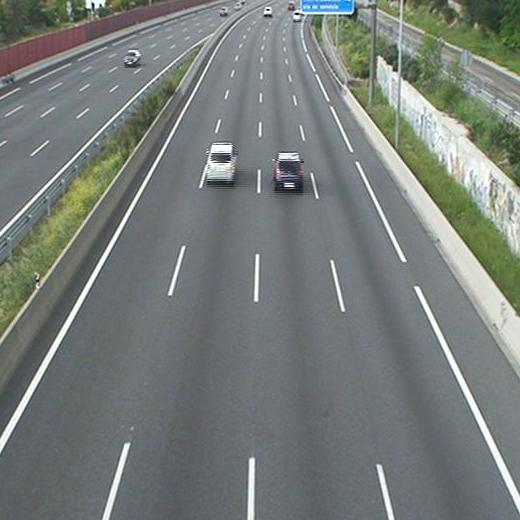car: (206, 142, 237, 186), (274, 152, 304, 193)
